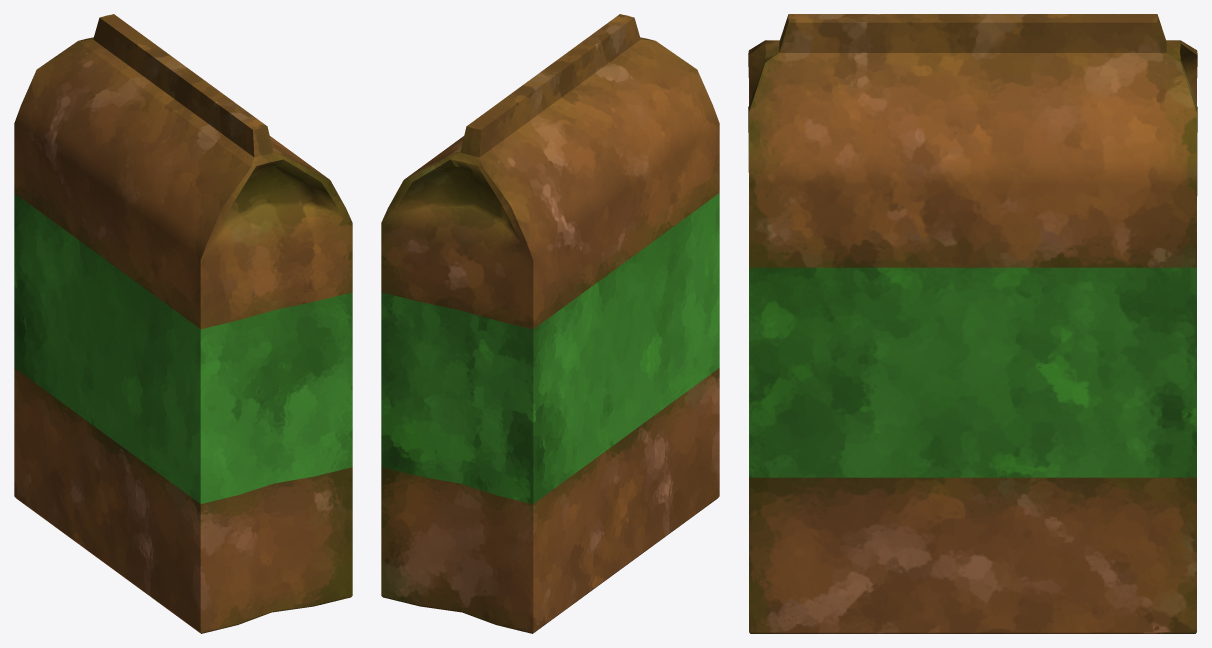
Rendered from Saco de semente.fbx.
The picture shows the model from 3 angles, left to right: view 1: azimuth 30°, elevation 25°; view 2: azimuth 150°, elevation 25°; view 3: azimuth 270°, elevation 25°; orthographic projection. The views are drawn at different scales.
Visible parts, largest first — view 1: Saco Semente; view 2: Saco Semente; view 3: Saco Semente.
Part boxes in pixels (left/top/right/bottom): Saco Semente: left=14, top=14, right=352, bottom=633; Saco Semente: left=381, top=14, right=719, bottom=633; Saco Semente: left=748, top=14, right=1197, bottom=633.
Bounding box in the file's own units: 9.54 × 28.6 × 20.35.
Materials: 2 (2 with a texture image).
